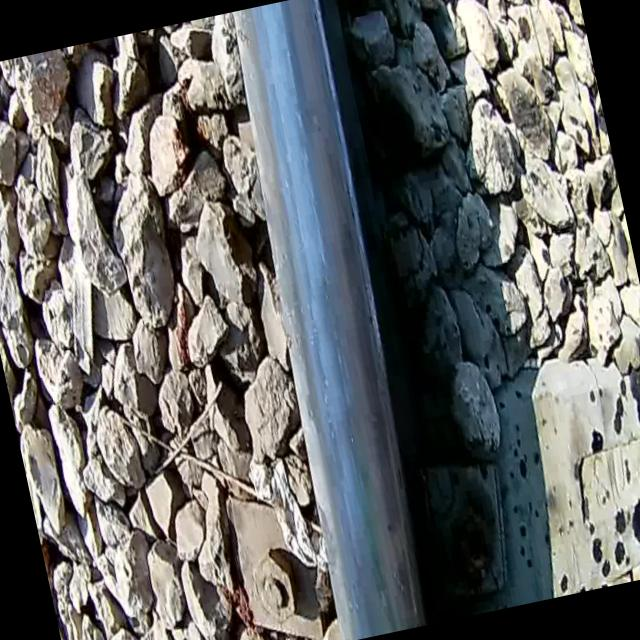Squats: (331, 607, 426, 640)
